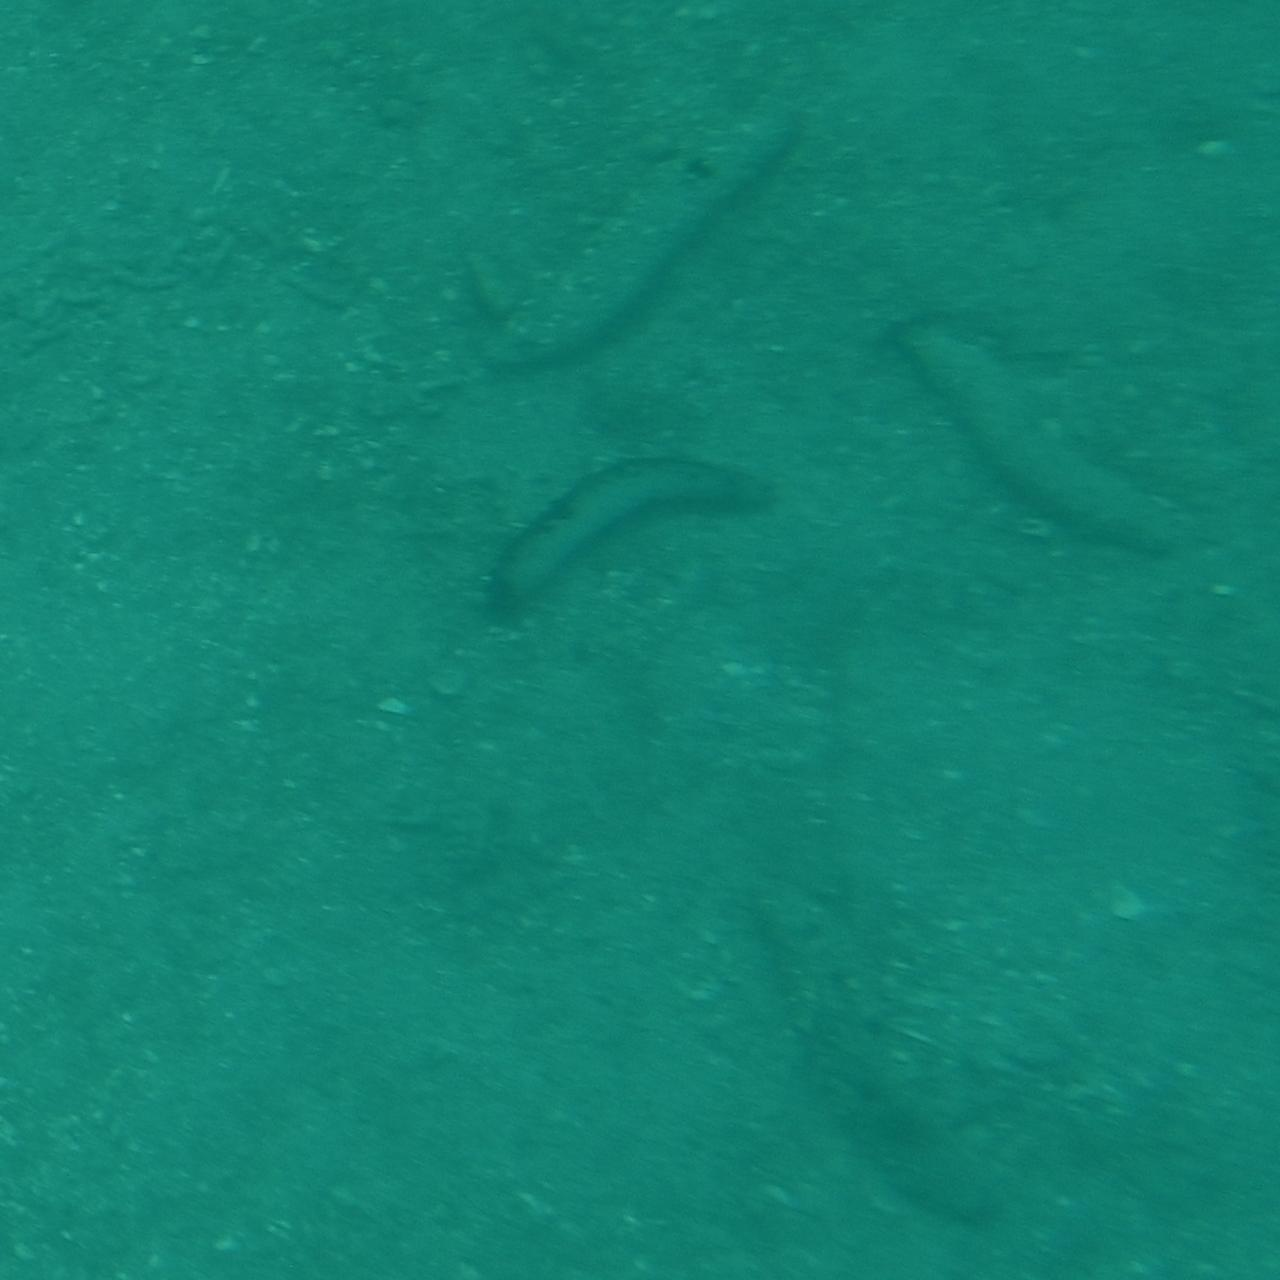Holothuria tubulosa: (477, 70, 836, 374), (736, 887, 1010, 1228), (894, 325, 1220, 585), (457, 447, 817, 619)
